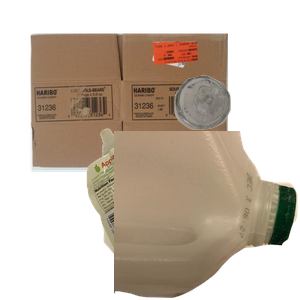cardboard: (28, 31, 249, 195)
glass: (172, 73, 300, 195)
plastic: (114, 131, 300, 300)
trash: (84, 126, 291, 300)
